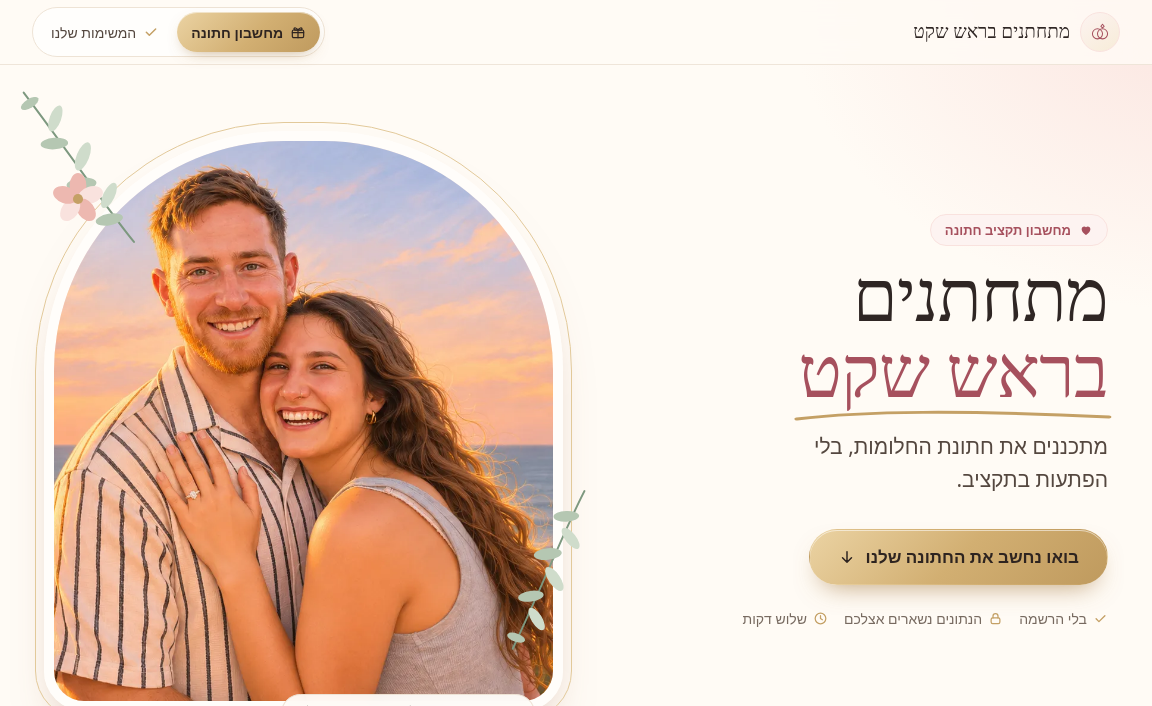
it: Navigation › switches pages without reloading and moves focus to the new heading
The image size is (1152, 706).
Click the link "המשימות שלנו" at (105, 32), box [51,22,159,42]
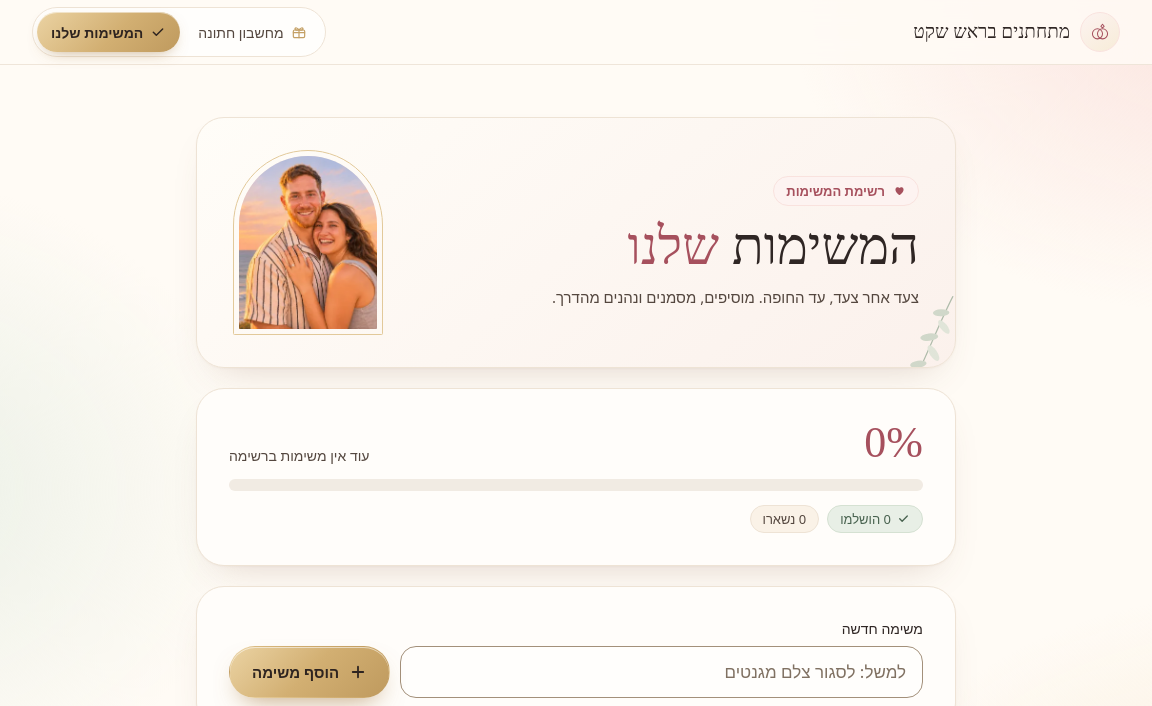
Expected: the heading reads "המשימות שלנו", [628,218,919,275]
Click the link "מחשבון חתונה" at (252, 32), box [198,22,306,42]
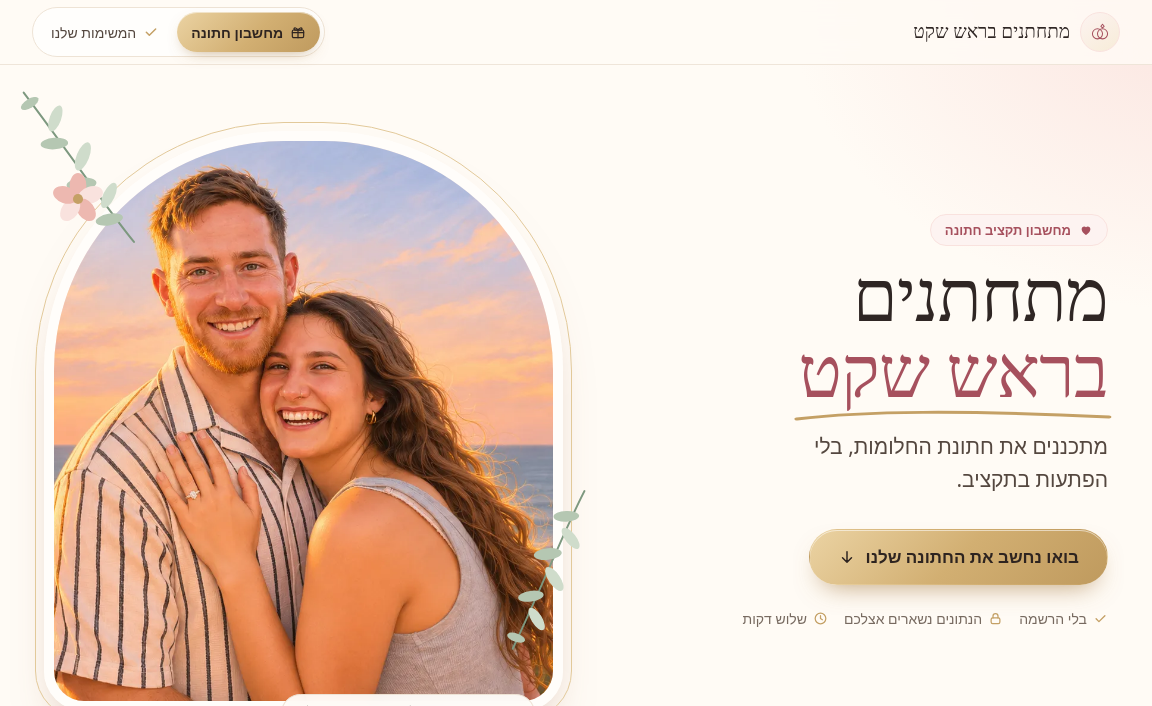
Expected: the heading reads "מתחתנים בראש שקט", [792,257,1114,424]
